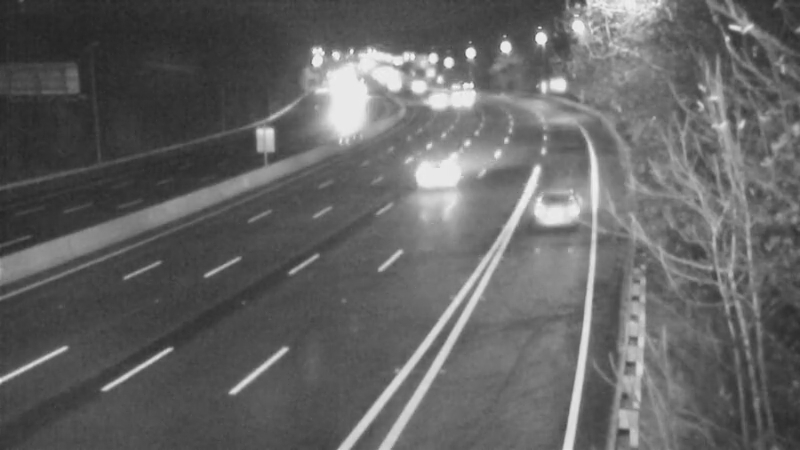vehicle: (403, 129, 483, 209), (509, 170, 589, 250), (390, 60, 440, 110), (441, 63, 491, 113), (409, 75, 459, 125), (434, 74, 484, 124)
